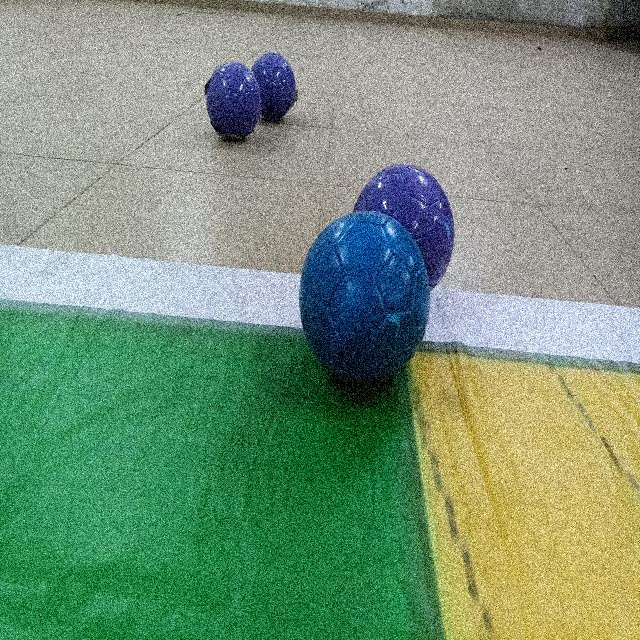blue_ball: (291, 214, 439, 387)
purple_ball: (355, 162, 463, 264), (204, 63, 260, 142), (255, 54, 295, 115)
